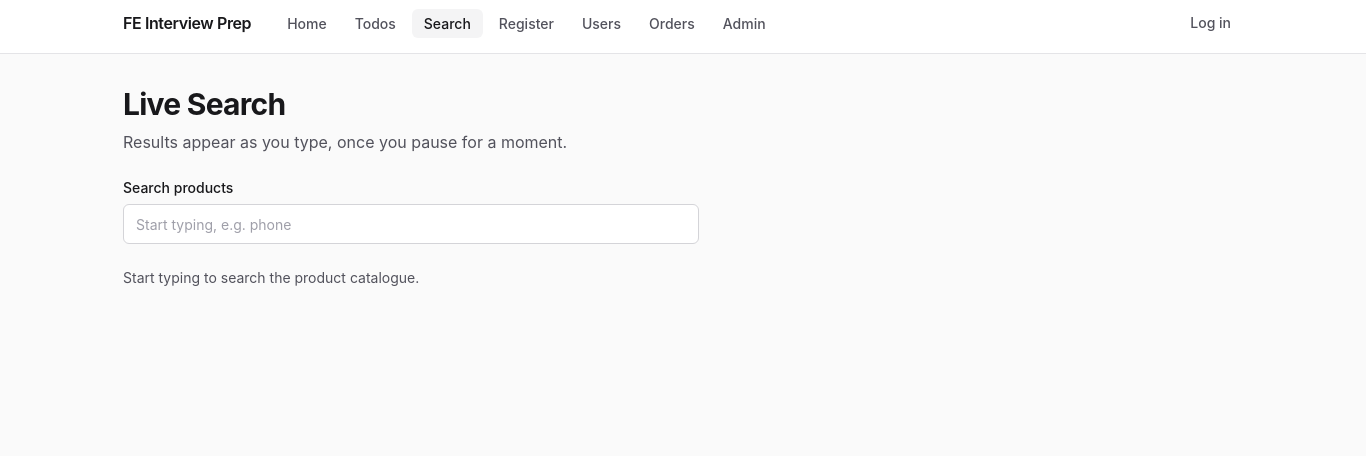
it: SearchPage › shows an alert on failure and recovers when Retry is pressed
The width and height of the screenshot is (1366, 456).
Type "react" into the search field labelled "Search products".
click(411, 224); type("react")  # box [123, 204, 699, 244]
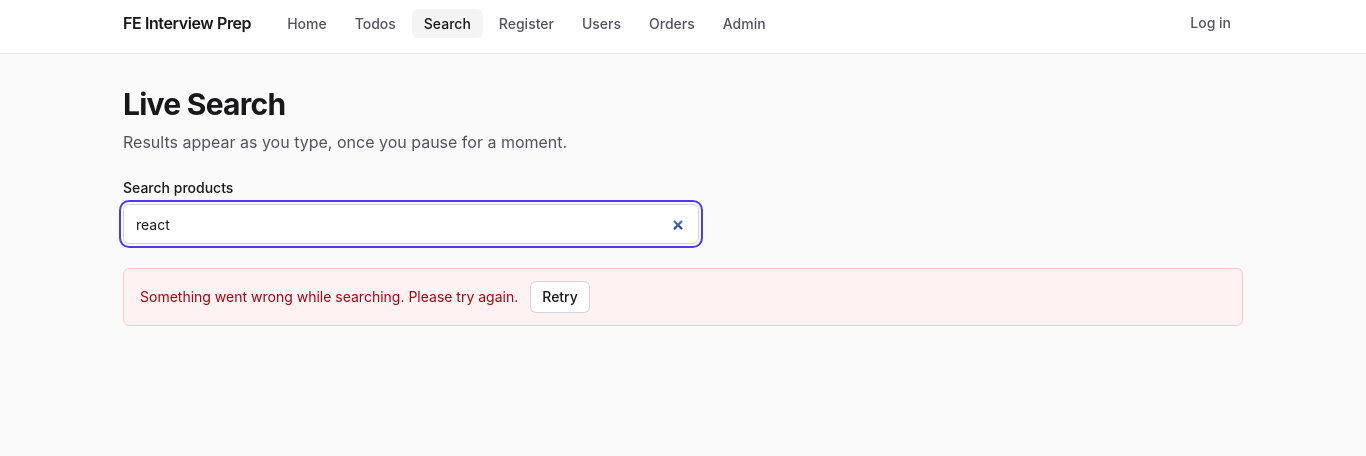
Check: the message shows "Something went wrong", box [140, 288, 518, 305]
Click the button "Retry".
click(560, 297)  # box [530, 281, 590, 313]
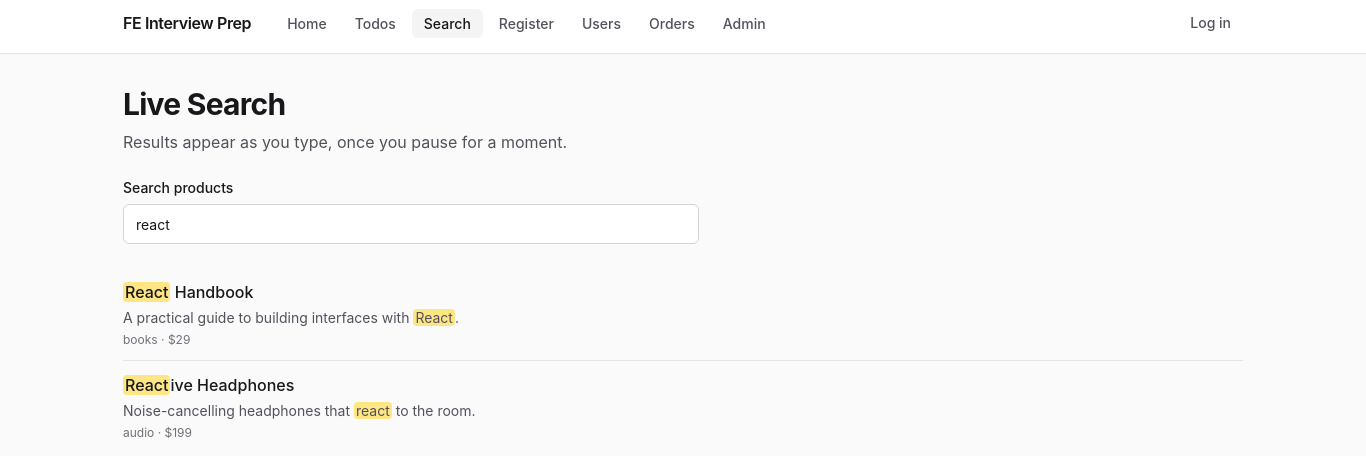
Check: the heading "React Handbook" is shown, box [123, 282, 253, 302]
Check: the message "Something went wrong while searching. Please try again. Retry" is gone
